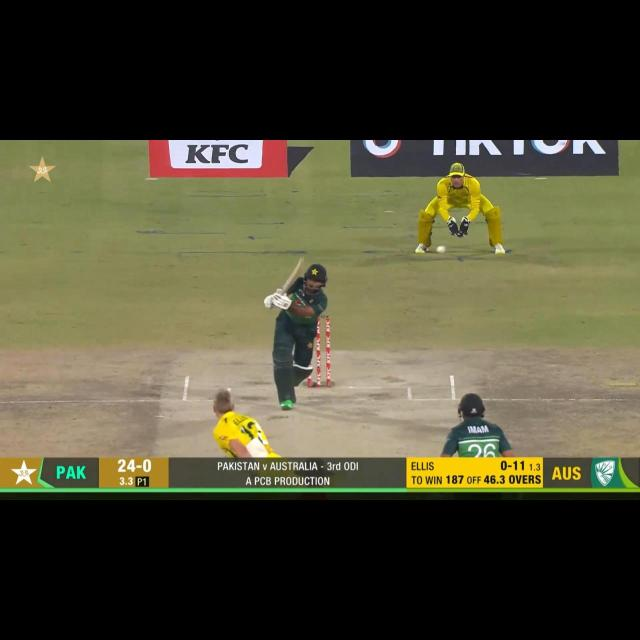bat: (279, 255, 307, 293)
toe: (295, 255, 306, 264)
